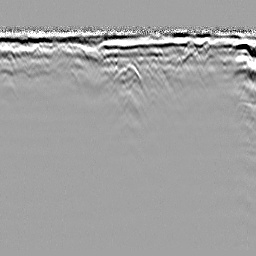cavity: (109, 60, 143, 85)
